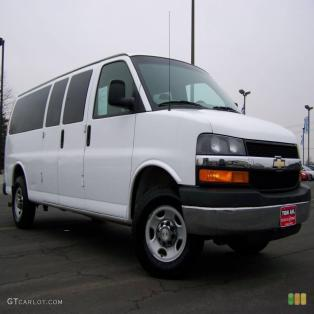Auto: (2, 52, 307, 281)
